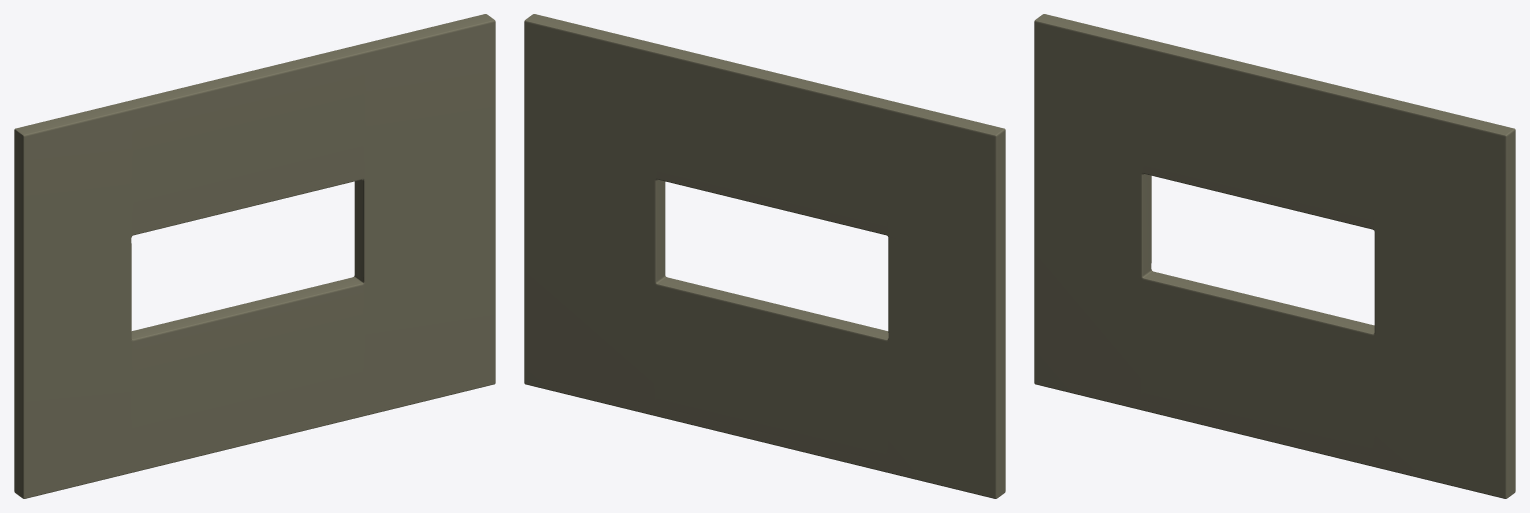
The model's file is wallWindow2.fbx.
3 views of the same model, side by side, from view 1: azimuth 30°, elevation 25°; view 2: azimuth 150°, elevation 25°; view 3: azimuth 330°, elevation 25° (orthographic).
Visible parts, largest first — view 1: wallWindow2; view 2: wallWindow2; view 3: wallWindow2.
Part boxes in pixels (<box>): wallWindow2: <box>14,14,495,498</box>; wallWindow2: <box>524,14,1005,498</box>; wallWindow2: <box>1034,14,1515,498</box>.
Size of the model in its own units: 163 by 120 by 6.
